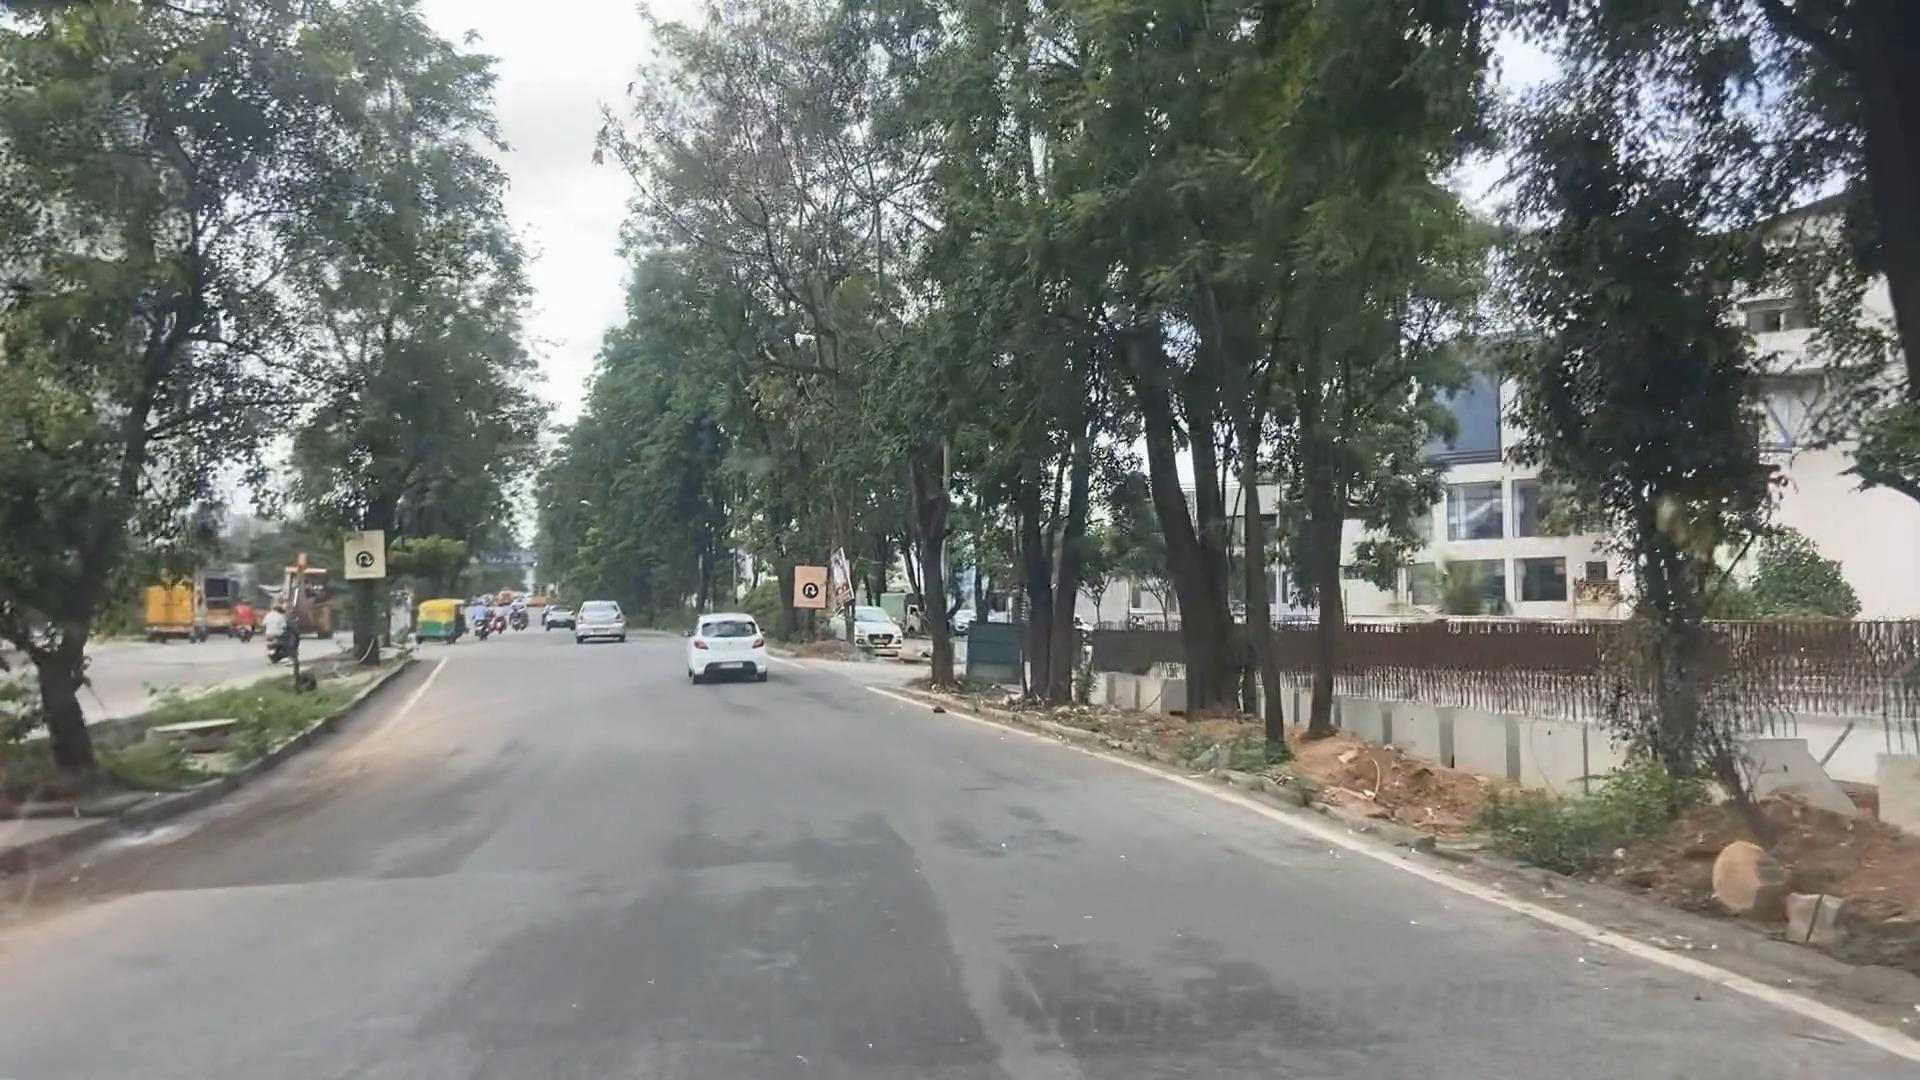LMV: (694, 615, 764, 683), (578, 607, 629, 644)
RoadDamages: (1164, 924, 1335, 1077), (414, 964, 611, 1080), (690, 926, 844, 1052), (976, 922, 1127, 1042), (626, 796, 773, 893), (216, 794, 335, 903), (800, 790, 902, 880), (440, 728, 505, 856), (928, 806, 1050, 862)
